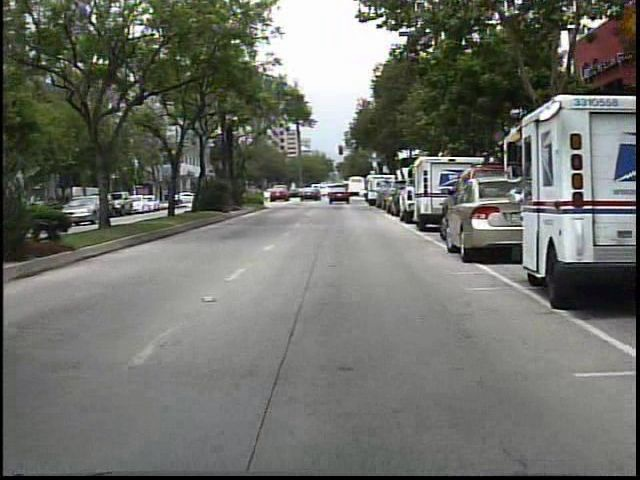person: (333, 183, 347, 203)
